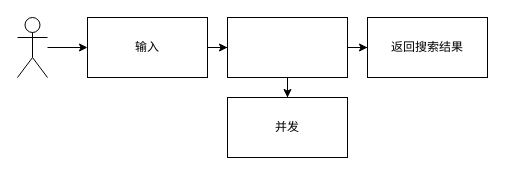
Image size: 505x175. Some labels were removed from this diagram. The centre of each missing label's shape, as x and y in pixels:
"对文件进行搜索" belongs at point 287,47.
"用户" belongs at point 32,47.
